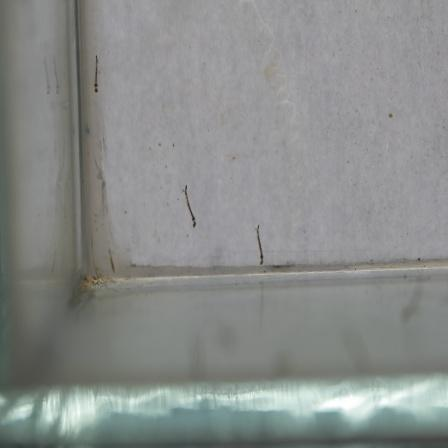Jentik-Nyamuk: (180, 182, 198, 229), (252, 222, 269, 270), (90, 52, 104, 96)
